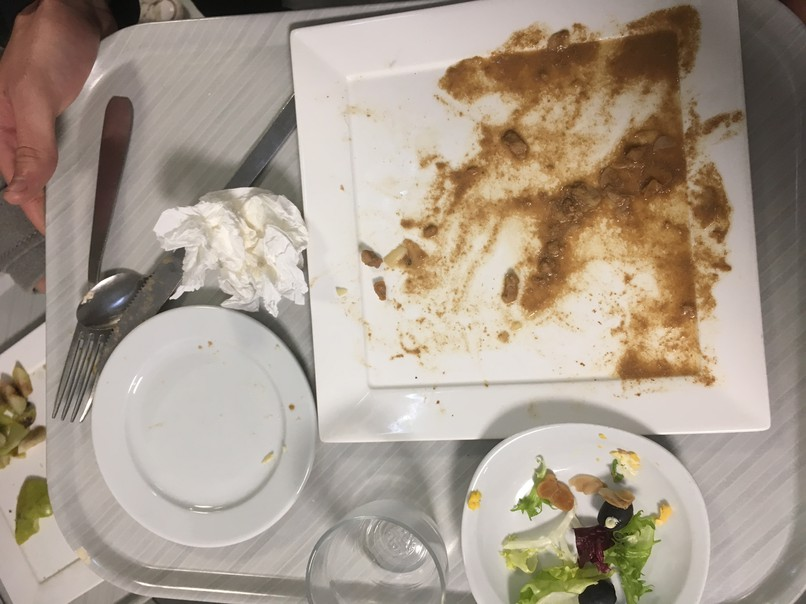cup: (292, 488, 452, 604)
cutlery: (64, 90, 145, 424)
orga: (521, 470, 660, 604), (529, 186, 599, 308), (612, 124, 678, 223)
trash: (148, 185, 305, 312)
